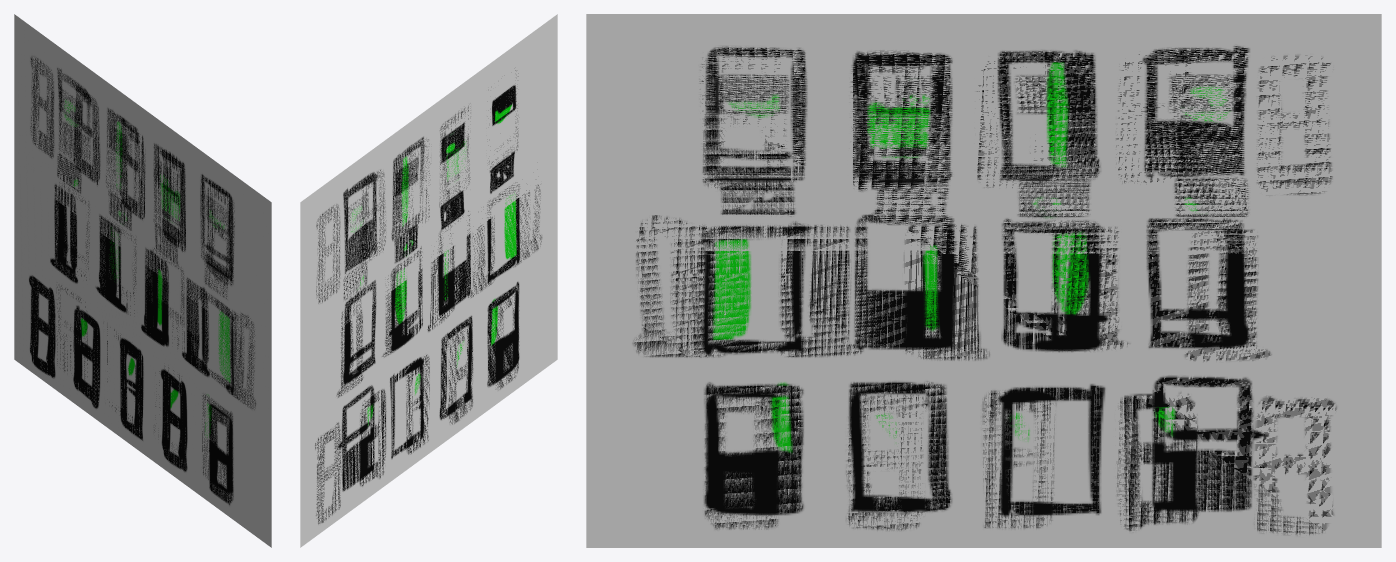
File: House Wall Variants.fbx
The picture shows the model from 3 angles, left to right: view 1: azimuth 30°, elevation 25°; view 2: azimuth 150°, elevation 25°; view 3: azimuth 270°, elevation 25°; orthographic projection. The views are drawn at different scales.
Visible parts, largest first — view 1: House Side Var3, House Side Var1, House Side Var2; view 2: House Side Var1, House Side Var3, House Side Var2; view 3: House Side Var1, House Side Var3, House Side Var2.
Part boxes in pixels (x1=…): House Side Var3: x1=14, y1=16, x2=271, y2=547; House Side Var1: x1=14, y1=14, x2=271, y2=547; House Side Var2: x1=14, y1=15, x2=271, y2=355; House Side Var1: x1=300, y1=33, x2=557, y2=539; House Side Var3: x1=300, y1=70, x2=557, y2=547; House Side Var2: x1=300, y1=14, x2=557, y2=357; House Side Var1: x1=586, y1=14, x2=1381, y2=547; House Side Var3: x1=586, y1=14, x2=1381, y2=547; House Side Var2: x1=586, y1=14, x2=1381, y2=254.
Bounding box in the file's own units: 0 × 110 × 149.
